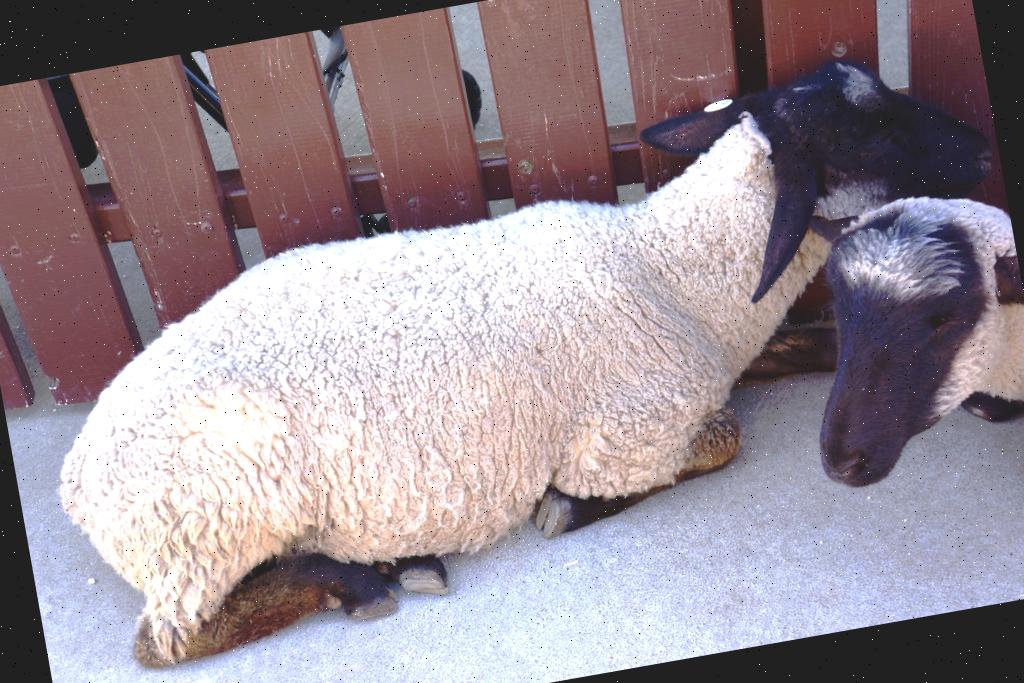Sheep: (9, 37, 1024, 678), (738, 133, 1024, 548)
